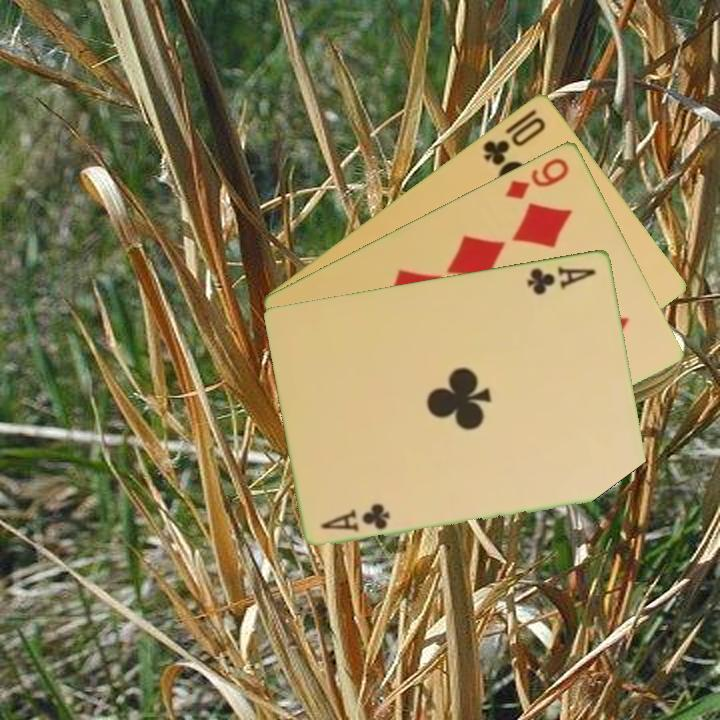10c: (479, 112, 549, 168)
9d: (501, 153, 572, 202)
Ac: (317, 500, 394, 535), (524, 262, 599, 297)
